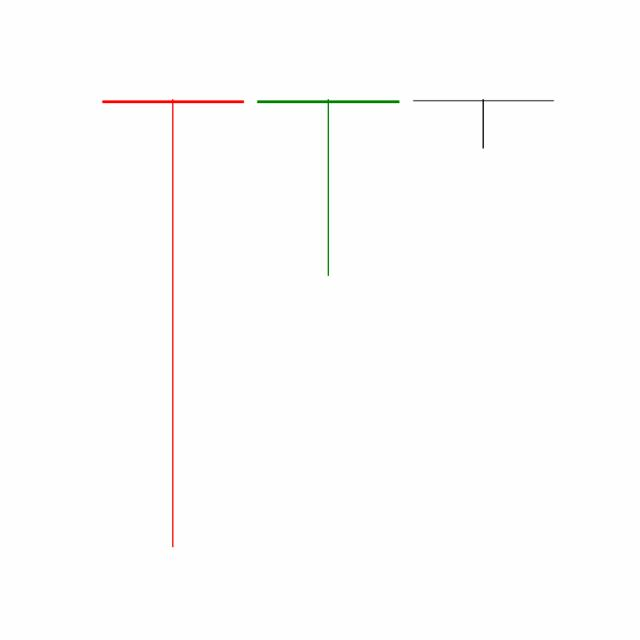Dragonfly Doji: (405, 97, 561, 149)
